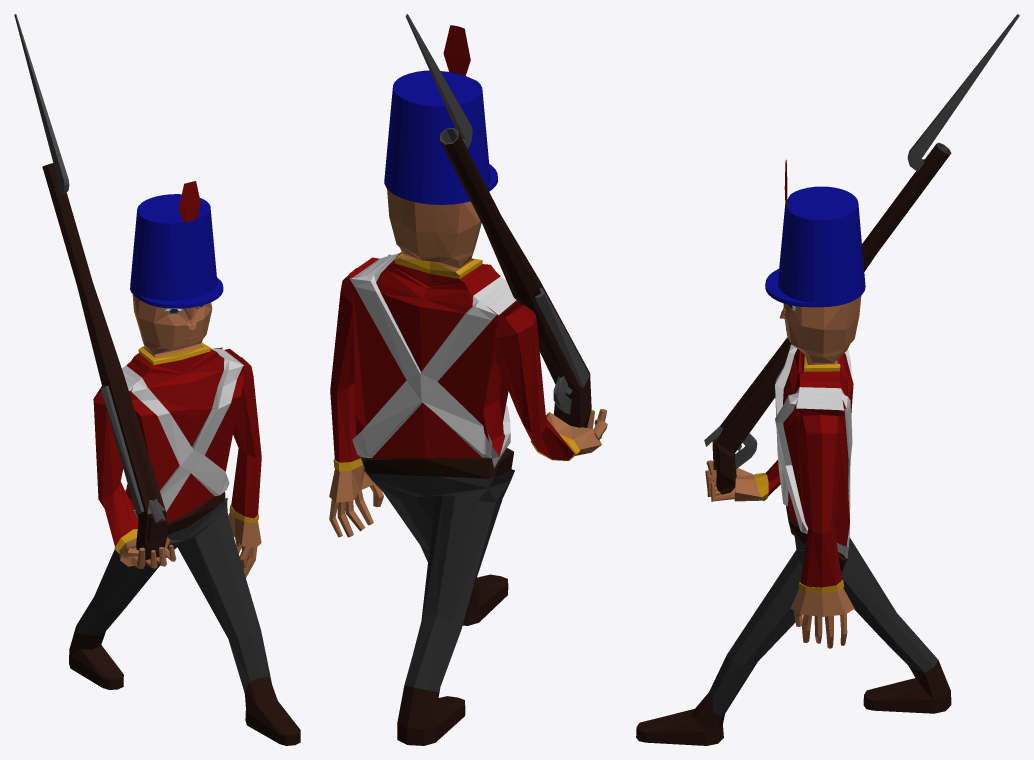
File: Infantry_000118.obj
3 renders of one model, left to right at view 1: azimuth 30°, elevation 25°; view 2: azimuth 150°, elevation 25°; view 3: azimuth 270°, elevation 25°, orthographic. The views are drawn at different scales.
Parts seen in each view (by area): view 1: {Man}_Circle, {Mesket}_Cube.001; view 2: {Man}_Circle, {Mesket}_Cube.001; view 3: {Man}_Circle, {Mesket}_Cube.001.
Boxes of the visible parts, x1,y1,x2,y2 form: {Man}_Circle: (69, 181, 300, 745); {Mesket}_Cube.001: (14, 14, 167, 560); {Man}_Circle: (329, 25, 607, 745); {Mesket}_Cube.001: (405, 14, 591, 427); {Man}_Circle: (636, 159, 951, 745); {Mesket}_Cube.001: (704, 14, 1019, 494).
Size of the model in its own units: 5.63 by 18.74 by 9.64.
